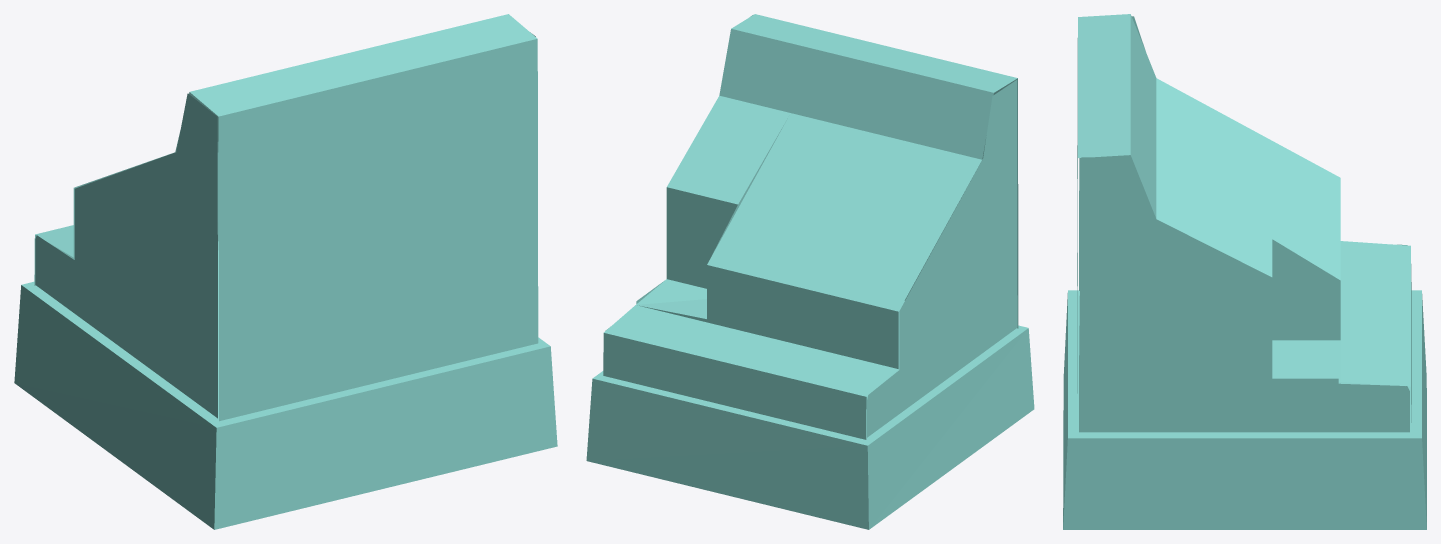
The model's file is CashCheck_Collision.fbx.
3 views of the same model, side by side, from view 1: azimuth 30°, elevation 25°; view 2: azimuth 150°, elevation 25°; view 3: azimuth 270°, elevation 25° (orthographic). The views are drawn at different scales.
Visible parts, largest first — view 1: CashCheck_Collision; view 2: CashCheck_Collision; view 3: CashCheck_Collision.
Part boxes in pixels (x1,y1,x2,y2): CashCheck_Collision: [14, 14, 557, 529]; CashCheck_Collision: [586, 14, 1034, 529]; CashCheck_Collision: [1063, 14, 1426, 529].
Bounding box in the file's own units: 0.4398 × 0.4995 × 0.4456.
